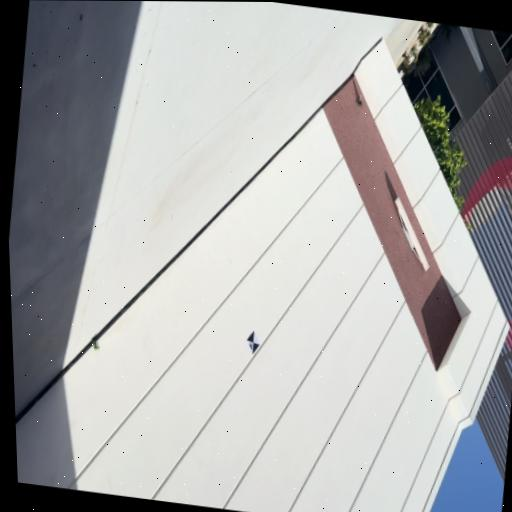target4: (246, 330, 260, 354)
